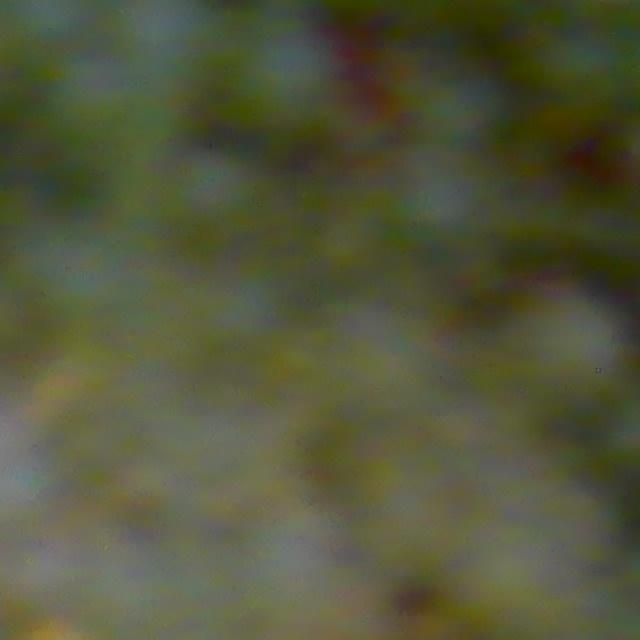SeaGrape: (520, 289, 629, 393), (232, 23, 337, 124), (538, 25, 627, 113), (171, 149, 257, 232)
